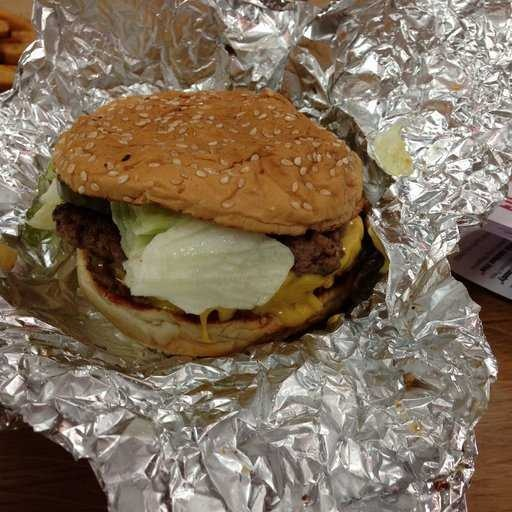hamburger: (51, 73, 348, 351)
